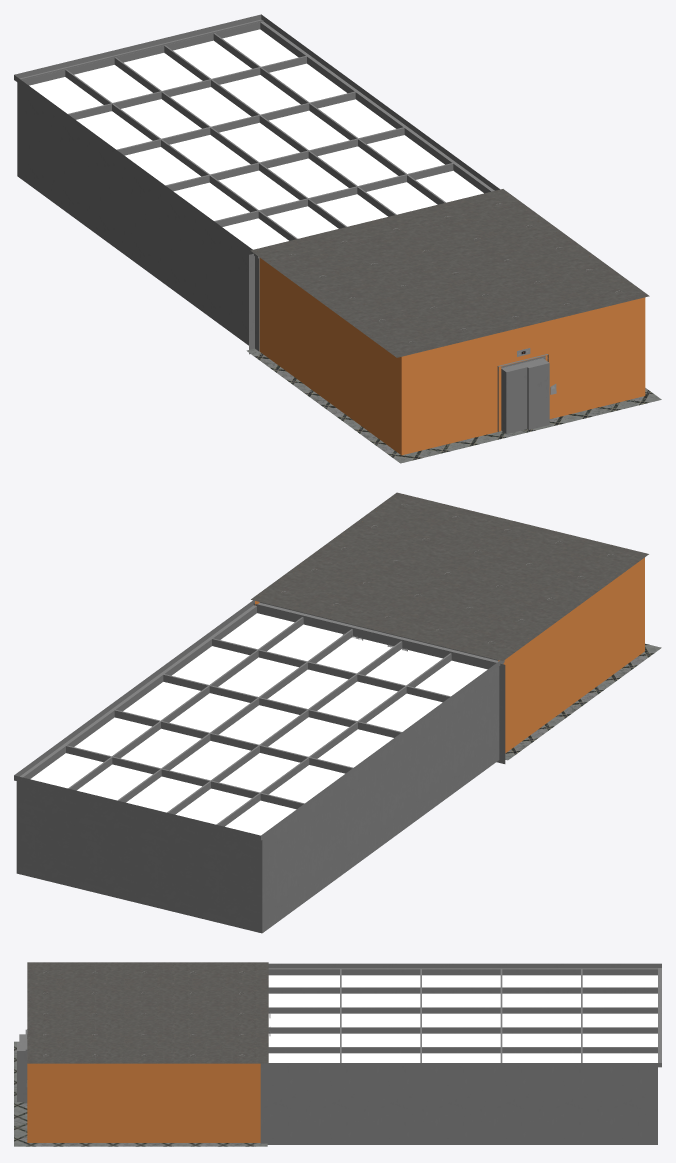
File: xlist_vault.glb
3 views of the same model, one above another, from view 1: azimuth 30°, elevation 25°; view 2: azimuth 150°, elevation 25°; view 3: azimuth 270°, elevation 25° (orthographic). The views are drawn at different scales.
Parts seen in each view (by area): view 1: MainVaultInnerDoor_SteelShader_0, MainVault_Lights_0, Plane.005_Celling_0, Plane.001_Walls_0, Plane_Floor_0; view 2: MainVaultInnerDoor_SteelShader_0, MainVault_Lights_0, Plane.005_Celling_0, Plane.001_Walls_0, Plane_Floor_0; view 3: MainVaultInnerDoor_SteelShader_0, MainVault_Lights_0, Plane.005_Celling_0, Plane.001_Walls_0, Plane_Floor_0.
Part boxes in pixels (x1,y1,x2,y2): MainVaultInnerDoor_SteelShader_0: [14, 14, 622, 433]; MainVault_Lights_0: [29, 29, 483, 249]; Plane.005_Celling_0: [250, 189, 649, 357]; Plane.001_Walls_0: [259, 258, 645, 455]; Plane_Floor_0: [246, 348, 661, 463]; MainVaultInnerDoor_SteelShader_0: [14, 504, 614, 933]; MainVault_Lights_0: [30, 613, 487, 835]; Plane.005_Celling_0: [251, 492, 648, 661]; Plane.001_Walls_0: [255, 557, 644, 753]; Plane_Floor_0: [505, 643, 661, 760]; MainVaultInnerDoor_SteelShader_0: [17, 963, 661, 1144]; MainVault_Lights_0: [268, 975, 657, 1062]; Plane.005_Celling_0: [27, 962, 268, 1063]; Plane.001_Walls_0: [27, 1063, 260, 1142]; Plane_Floor_0: [14, 1041, 267, 1146].
Size of the model in its own units: 13.7 by 5.17 by 35.76.
Materials: 13 (8 with a texture image).
